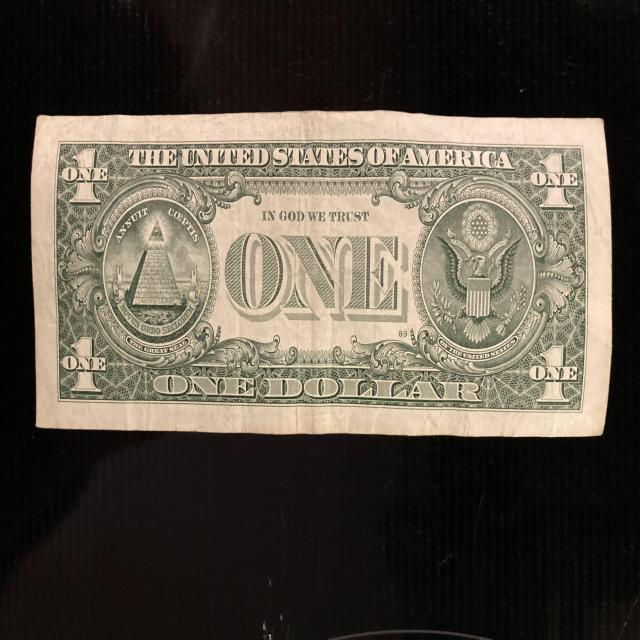one: (28, 109, 614, 439)
